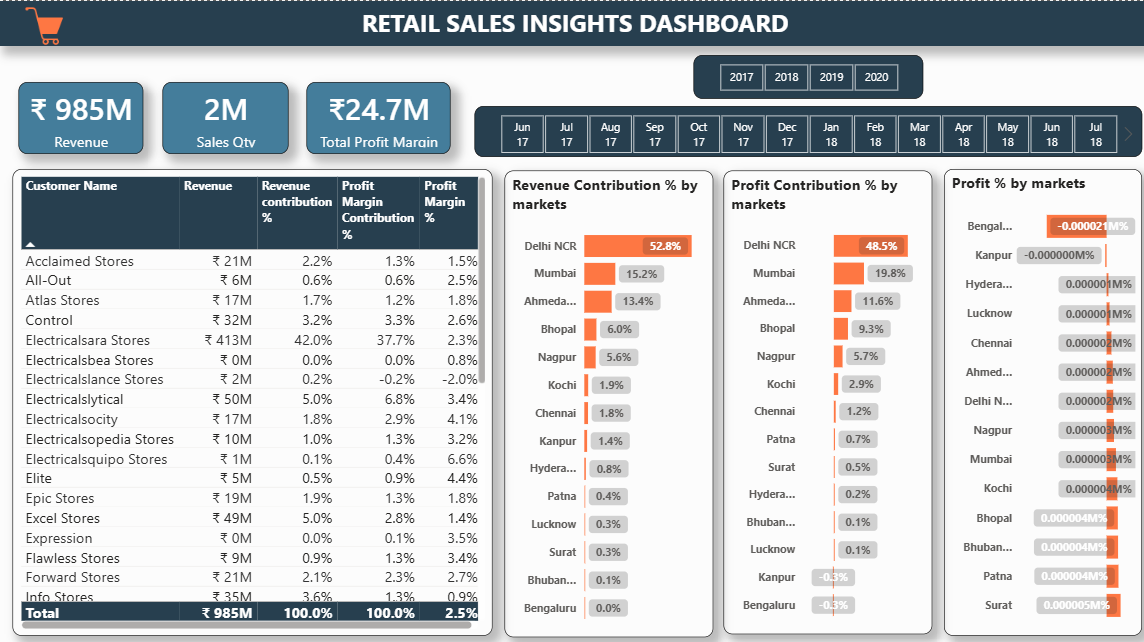

What the dashboard file says about the page in this screenshot:
{"tool":"powerbi","page":{"name":"Profit Analysis","canvas":[1280,720],"ordinal":1},"visuals":[{"type":"textbox","box":[0,0,1280.5,49.8],"z":0},{"type":"tableEx","title":"Top 5 customer","fields":{"Values":["sales customers.custmer_name","Base Measures 2.Revenue","Base Measures 2.Revenue contribution %","Base Measures 2.Profit Margin Contribution %","Base Measures 2.Profit Margin %"]},"box":[15,186.7,533.3,518.3],"z":16000},{"type":"slicer","fields":{"Values":["sales date.year"]},"box":[771.7,60,255,48.3],"z":17000},{"type":"slicer","fields":{"Values":["sales date.cy_date"]},"box":[528.3,116.7,741.7,56.7],"z":18000},{"type":"card","fields":{"Values":["Base Measures 2.Total Profit Margin"]},"box":[341.7,90,160,80],"z":19000},{"type":"card","fields":{"Values":["Base Measures 2.sales Qty"]},"box":[181.7,90,140,80],"z":20000},{"type":"card","fields":{"Values":["Base Measures 2.Revenue"]},"box":[21.7,90,138.3,80],"z":21000},{"type":"barChart","title":"Revenue Contribution % by markets","fields":{"Category":["sales markets.markets_name"],"Y":["Base Measures 2.Revenue contribution %"]},"box":[561.7,188.3,231.7,518.3],"z":22000},{"type":"barChart","title":"Profit Contribution % by markets","fields":{"Category":["sales markets.markets_name"],"Y":["Base Measures 2.Profit Margin Contribution %"]},"box":[805,188.3,231.7,515],"z":23000},{"type":"barChart","title":"Profit % by markets","fields":{"Category":["sales markets.markets_name"],"Y":["Base Measures 2.Profit Margin %"]},"box":[1050,186.7,220,518.3],"z":24000},{"type":"image","box":[3.3,0,95,53.3],"z":24001}]}

Visuals, with their boxes in screenshot pixels (x1, y1, x2, y2), scaled from the page's 1280x720 canvas onto the 1144x642 screenshot:
textbox: locate(0, 0, 1143, 44)
"Top 5 customer" tableEx: locate(13, 166, 490, 629)
slicer - sales date.year: locate(690, 54, 918, 97)
slicer - sales date.cy_date: locate(472, 104, 1135, 155)
card - Base Measures 2.Total Profit Margin: locate(305, 80, 448, 152)
card - Base Measures 2.sales Qty: locate(162, 80, 288, 152)
card - Base Measures 2.Revenue: locate(19, 80, 143, 152)
"Revenue Contribution % by markets" barChart: locate(502, 168, 709, 630)
"Profit Contribution % by markets" barChart: locate(719, 168, 927, 627)
"Profit % by markets" barChart: locate(938, 166, 1135, 629)
image: locate(3, 0, 88, 48)
